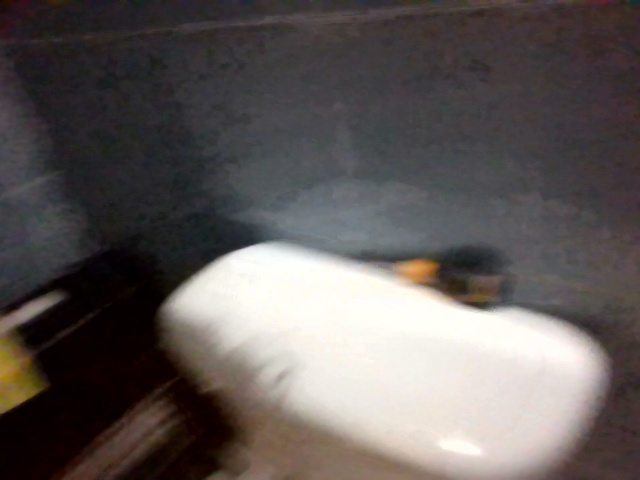destornillador: (338, 246, 515, 309)
